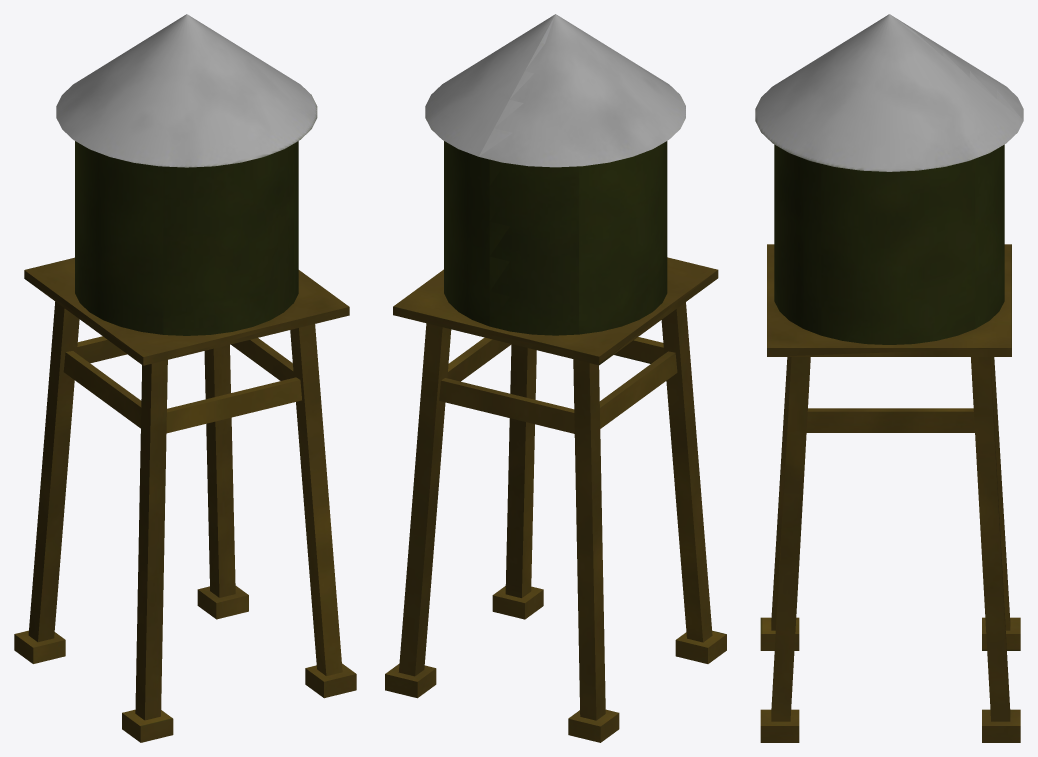
File: tanqueDeAgua.DAE
3 renders of one model, left to right at view 1: azimuth 30°, elevation 25°; view 2: azimuth 150°, elevation 25°; view 3: azimuth 270°, elevation 25°, orthographic. The views are drawn at different scales.
Parts seen in each view (by area): view 1: tanqueAgua; view 2: tanqueAgua; view 3: tanqueAgua.
Part boxes in pixels (x1,y1,x2,y2): tanqueAgua: (14,14,356,742); tanqueAgua: (385,14,726,742); tanqueAgua: (755,14,1023,742).
Bounding box in the file's own units: 2.34 × 6.45 × 2.32.
